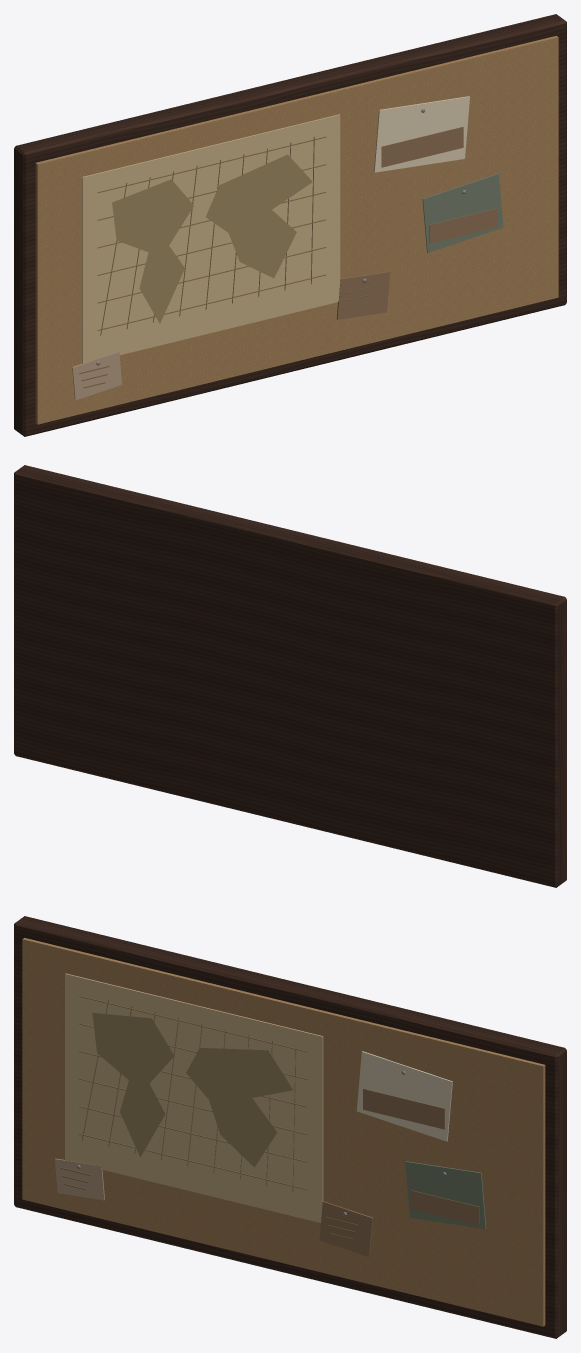
The model's file is corkboard.glb.
3 views of the same model, one above another, from view 1: azimuth 30°, elevation 25°; view 2: azimuth 150°, elevation 25°; view 3: azimuth 330°, elevation 25° (orthographic).
Visible parts, largest first — view 1: Cork surface, Original vintage style map, Large horizontal noticeboard frame, Original map continent silhouette.001, Original map continent silhouette, Pinned paper, Pinned paper.001, Pinned paper.002, Original landscape photo horizon, Pinned paper.003, Original landscape photo horizon.001; view 2: Large horizontal noticeboard frame; view 3: Cork surface, Original vintage style map, Large horizontal noticeboard frame, Original map continent silhouette.001, Original map continent silhouette, Pinned paper, Pinned paper.001, Pinned paper.002, Original landscape photo horizon, Pinned paper.003, Original landscape photo horizon.001.
Boxes of the visible parts, bbox=[...] form: Cork surface: bbox=[35, 36, 558, 424]; Original vintage style map: bbox=[82, 114, 340, 363]; Large horizontal noticeboard frame: bbox=[14, 14, 566, 436]; Original map continent silhouette.001: bbox=[206, 154, 312, 278]; Original map continent silhouette: bbox=[112, 179, 193, 323]; Pinned paper: bbox=[374, 96, 469, 172]; Pinned paper.001: bbox=[422, 173, 503, 252]; Pinned paper.002: bbox=[336, 271, 390, 319]; Original landscape photo horizon: bbox=[381, 126, 463, 167]; Pinned paper.003: bbox=[72, 352, 122, 400]; Original landscape photo horizon.001: bbox=[429, 208, 497, 243]; Large horizontal noticeboard frame: bbox=[14, 465, 566, 887]; Cork surface: bbox=[22, 938, 545, 1326]; Original vintage style map: bbox=[65, 973, 323, 1222]; Large horizontal noticeboard frame: bbox=[14, 916, 566, 1338]; Original map continent silhouette.001: bbox=[186, 1048, 292, 1167]; Original map continent silhouette: bbox=[92, 1012, 174, 1157]; Pinned paper: bbox=[356, 1051, 452, 1141]; Pinned paper.001: bbox=[405, 1161, 486, 1229]; Pinned paper.002: bbox=[319, 1201, 372, 1256]; Original landscape photo horizon: bbox=[363, 1088, 444, 1129]; Pinned paper.003: bbox=[55, 1158, 104, 1200]; Original landscape photo horizon.001: bbox=[410, 1190, 479, 1225].
Bounding box in the file's own units: 1.86 × 0.93 × 0.094.
13 materials, 6 textured.
